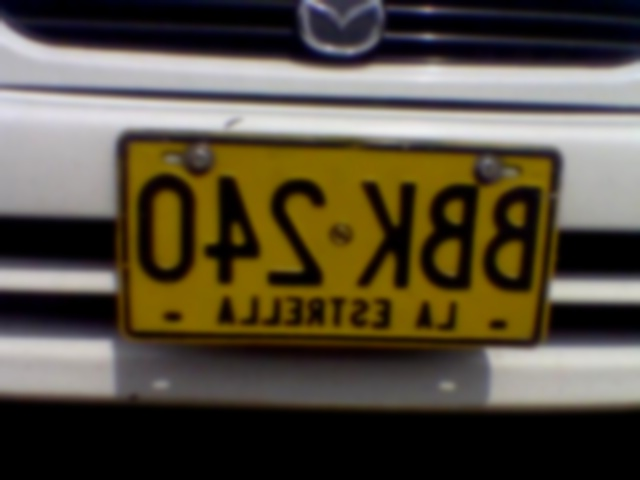placas: (110, 124, 570, 355)
